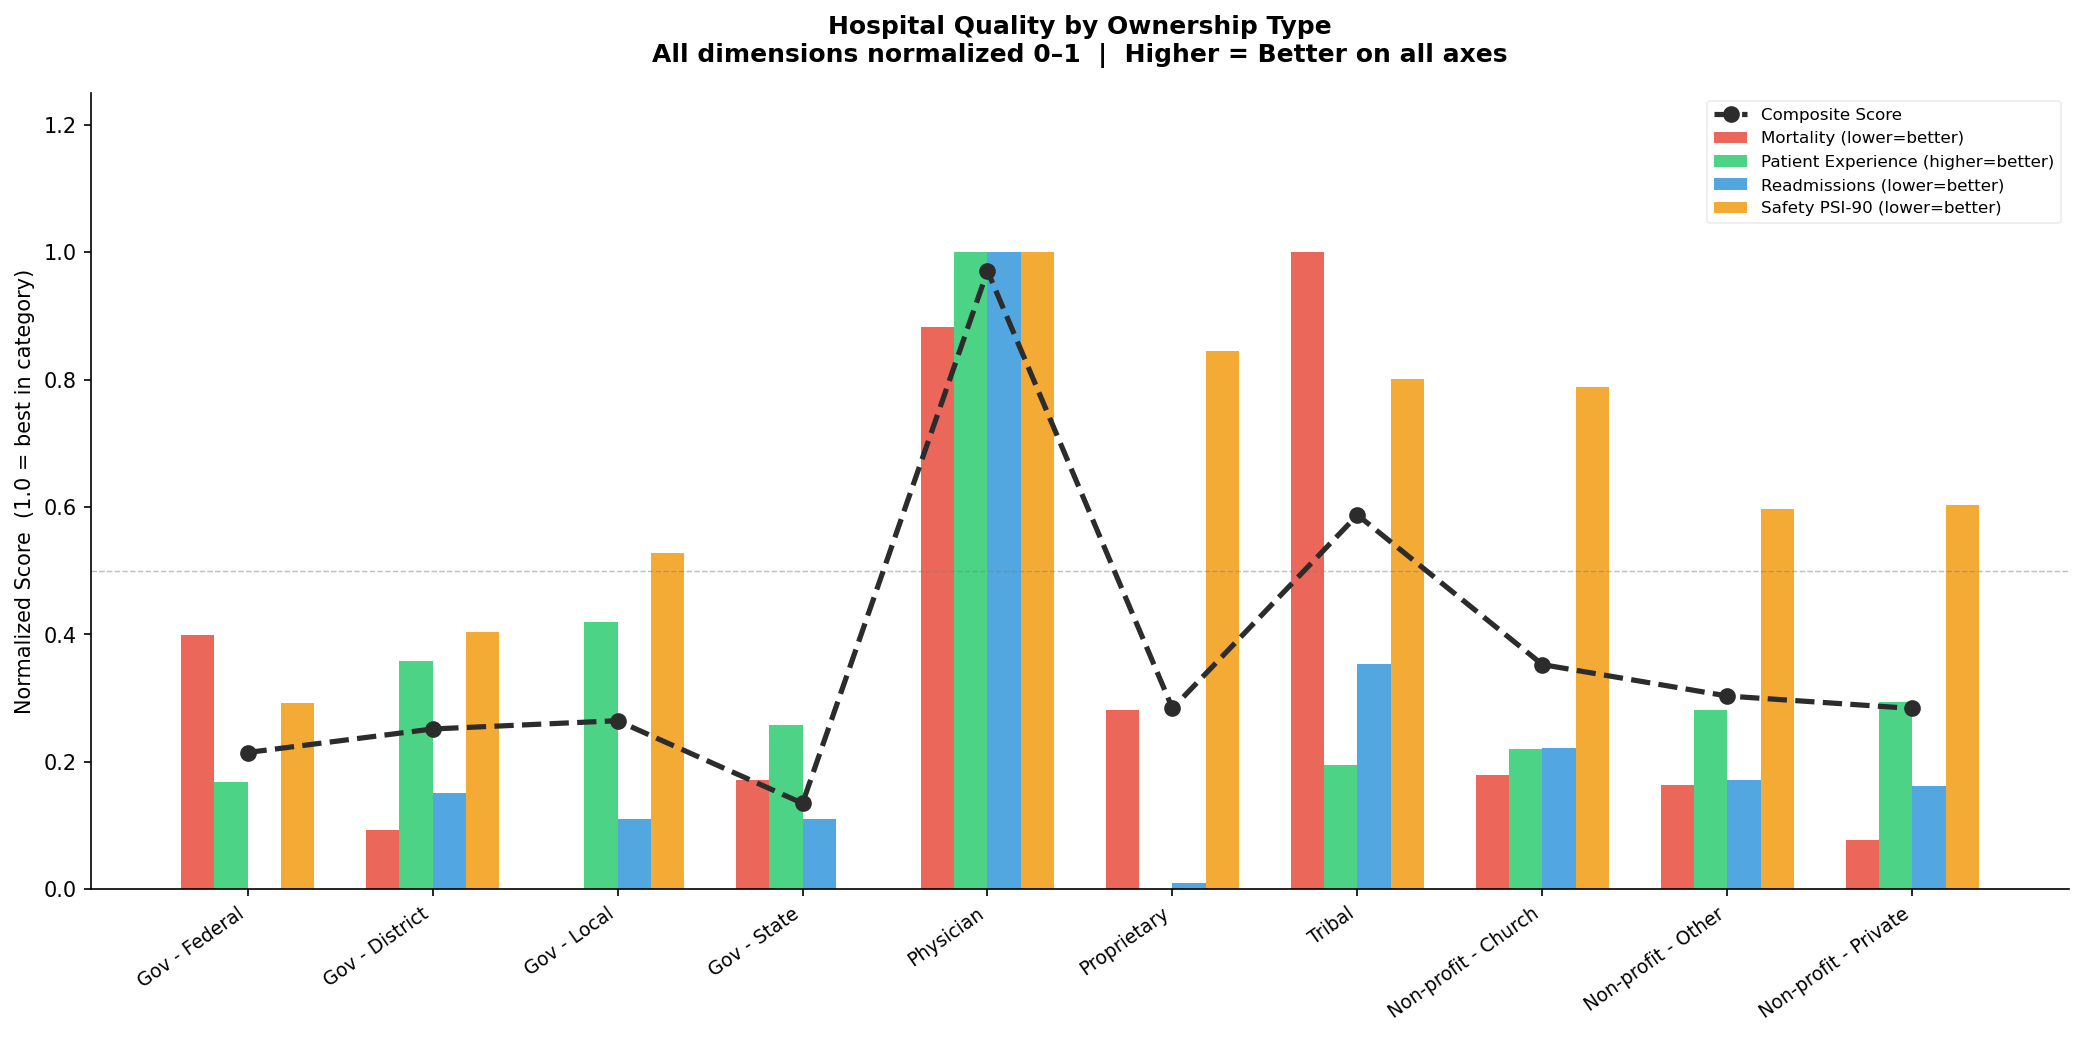

Layout of this report page (visuals, bound fields, positions):
{"tool":"powerbi","page":{"name":"Ownership_Quality_Summary","canvas":[1280,720],"ordinal":3},"visuals":[{"type":"lineClusteredColumnComboChart","title":"All dimensions normalized 0–1  |  Higher = Better on all axes","fields":{"Category":["Ownership_Quality_Normalized.hospital_ownership"],"Y":["Avg(Ownership_Quality_Normalized.safety_psi_norm)","Avg(Ownership_Quality_Normalized.readmissions_norm)","Avg(Ownership_Quality_Normalized.patient_exp_norm)","Avg(Ownership_Quality_Normalized.mortality_norm)"],"Y2":["Avg(Ownership_Quality_Normalized.composite_score)"]},"box":[0,0,1280,613.3],"z":0},{"type":"textbox","box":[0,613.3,1280,106.7],"z":1}]}

Visuals, with their boxes on the page's 1280x720 design canvas (x1, y1, x2, y2). These are canvas units, not pixel positions in the 2083x1037 screenshot, which may show the page scaled, cropped or inside an application window:
"All dimensions normalized 0–1  |  Higher = Better on all axes" lineClusteredColumnComboChart: l=0, t=0, r=1280, b=613
textbox: l=0, t=613, r=1280, b=720
